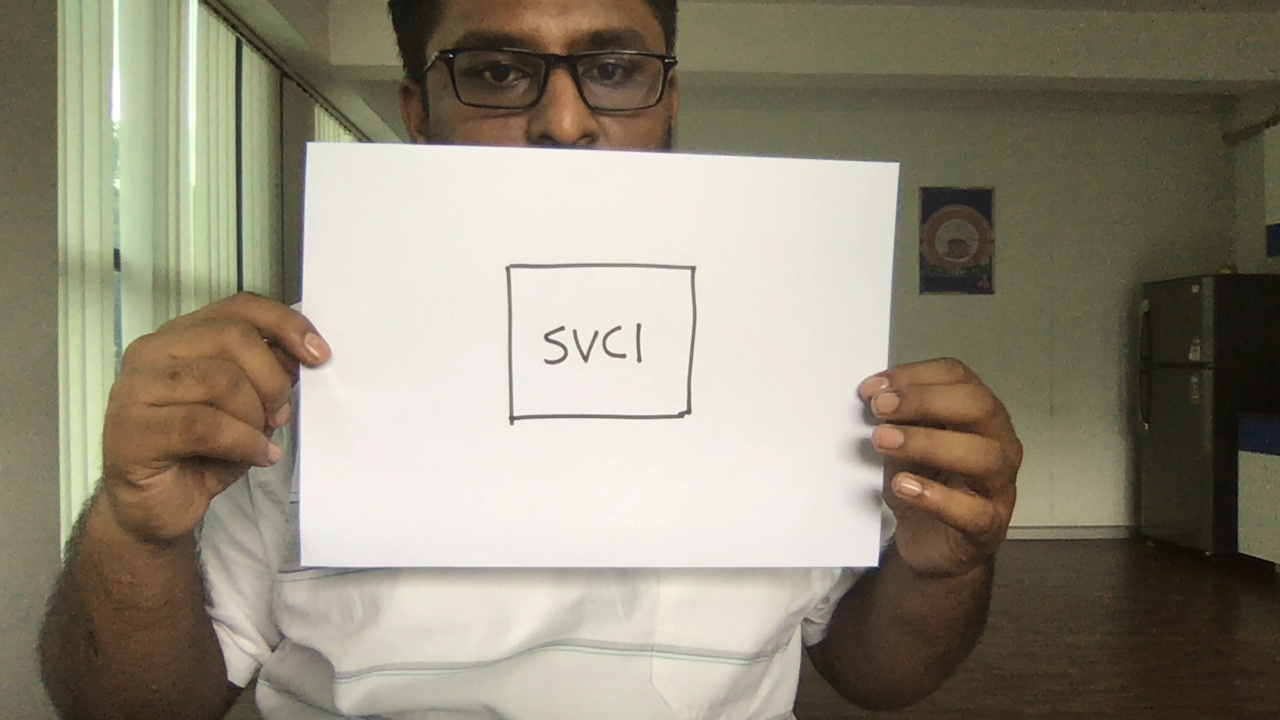ec2: (499, 256, 704, 432)
